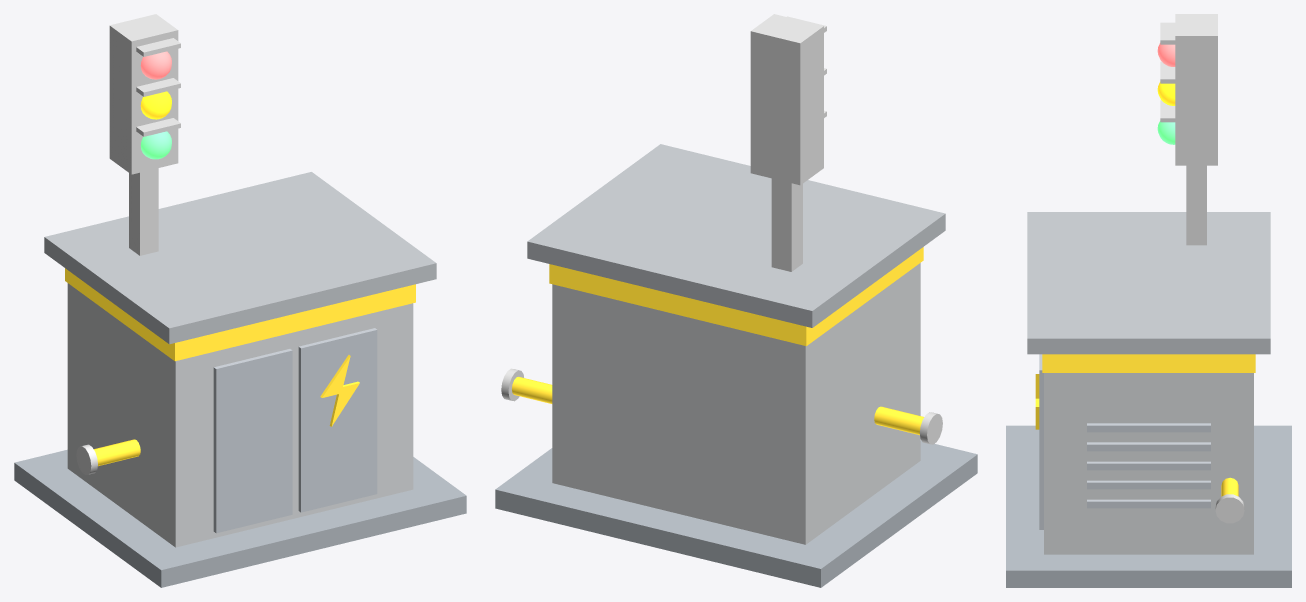
The model's file is GridConnection.glb.
3 views of the same model, side by side, from view 1: azimuth 30°, elevation 25°; view 2: azimuth 150°, elevation 25°; view 3: azimuth 270°, elevation 25° (orthographic). The views are drawn at different scales.
Visible parts, largest first — view 1: roof, kiosk, door (×2), plinth, signal_housing, band, mast, badge_bolt, terminal_stub, lamp_critical, lamp_ok, lamp_warn; view 2: kiosk, roof, plinth, signal_housing, band, mast, terminal_stub (×2); view 3: roof, kiosk, plinth, signal_housing, louvre (×5), band, mast, door, terminal_cap.
Boxes of the visible parts, left/top/right/bottom form: roof: left=44, top=172, right=436, bottom=344; kiosk: left=67, top=283, right=413, bottom=547; door (×2): left=213, top=328, right=377, bottom=533; plinth: left=14, top=449, right=466, bottom=587; signal_housing: left=109, top=14, right=178, bottom=174; band: left=65, top=268, right=415, bottom=361; mast: left=129, top=168, right=158, bottom=255; badge_bolt: left=320, top=355, right=359, bottom=426; terminal_stub: left=94, top=439, right=140, bottom=466; lamp_critical: left=140, top=51, right=171, bottom=79; lamp_ok: left=140, top=131, right=171, bottom=159; lamp_warn: left=140, top=91, right=171, bottom=119; kiosk: left=552, top=263, right=920, bottom=544; roof: left=527, top=144, right=945, bottom=327; plinth: left=495, top=440, right=977, bottom=587; signal_housing: left=750, top=14, right=823, bottom=185; band: left=549, top=247, right=923, bottom=346; mast: left=771, top=178, right=802, bottom=271; terminal_stub (×2): left=512, top=376, right=924, bottom=435; roof: left=1027, top=212, right=1270, bottom=354; kiosk: left=1044, top=373, right=1253, bottom=554; plinth: left=1006, top=425, right=1291, bottom=587; signal_housing: left=1175, top=14, right=1217, bottom=165; louvre (×5): left=1087, top=423, right=1210, bottom=508; band: left=1042, top=354, right=1255, bottom=372; mast: left=1186, top=165, right=1206, bottom=245; door: left=1039, top=354, right=1043, bottom=529; terminal_cap: left=1215, top=494, right=1244, bottom=523.
Size of the model in its own units: 4.04 by 5.28 by 3.
